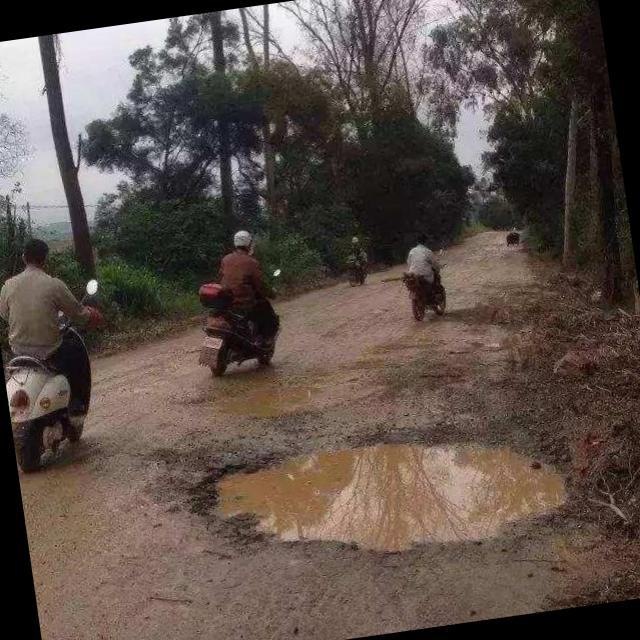Pothole: (213, 437, 573, 554)
